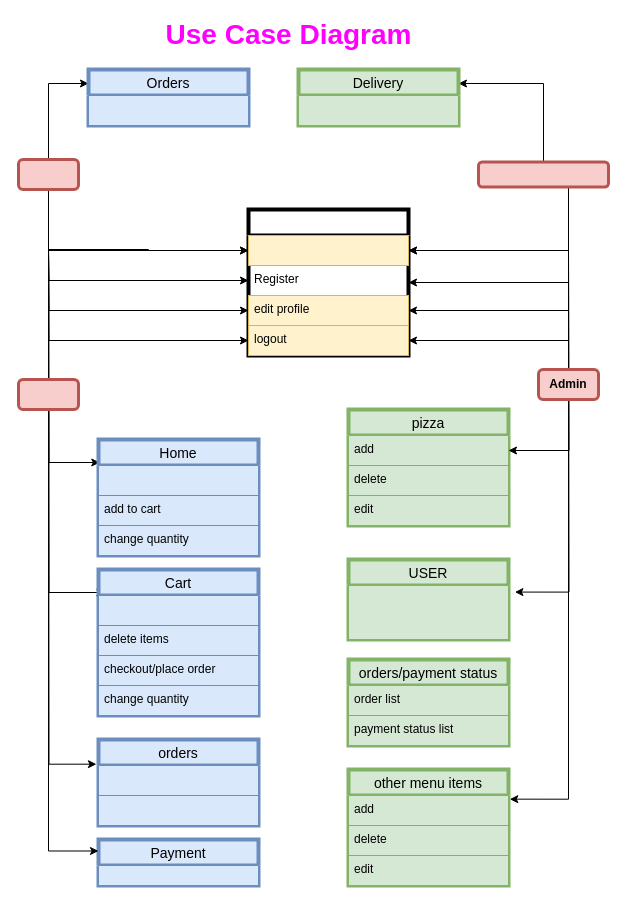
Image size: 627x905. Some labels were removed from this diagram. Here are the shapes that lost their labels. From the top down, the centre of each, then its label:
At pixel 168 110: "accept Order".
At pixel 378 110: "deliver order".
At pixel 48 174: "co_admin".
At pixel 543 174: "delivery_person".
At pixel 328 250: "Login".
At pixel 48 394: "Customer".
At pixel 178 480: "Sort by type(veg/non veg)".
At pixel 178 610: "add items".
At pixel 428 612: "user list (make user co_admin/ delivery_person )".
At pixel 178 780: "view all previous orders".
At pixel 178 810: "view current order".
At pixel 178 875: "Pay anmount".
